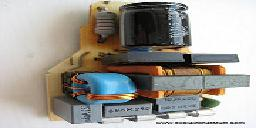Electrolytic-capacitor: (116, 1, 197, 49)
